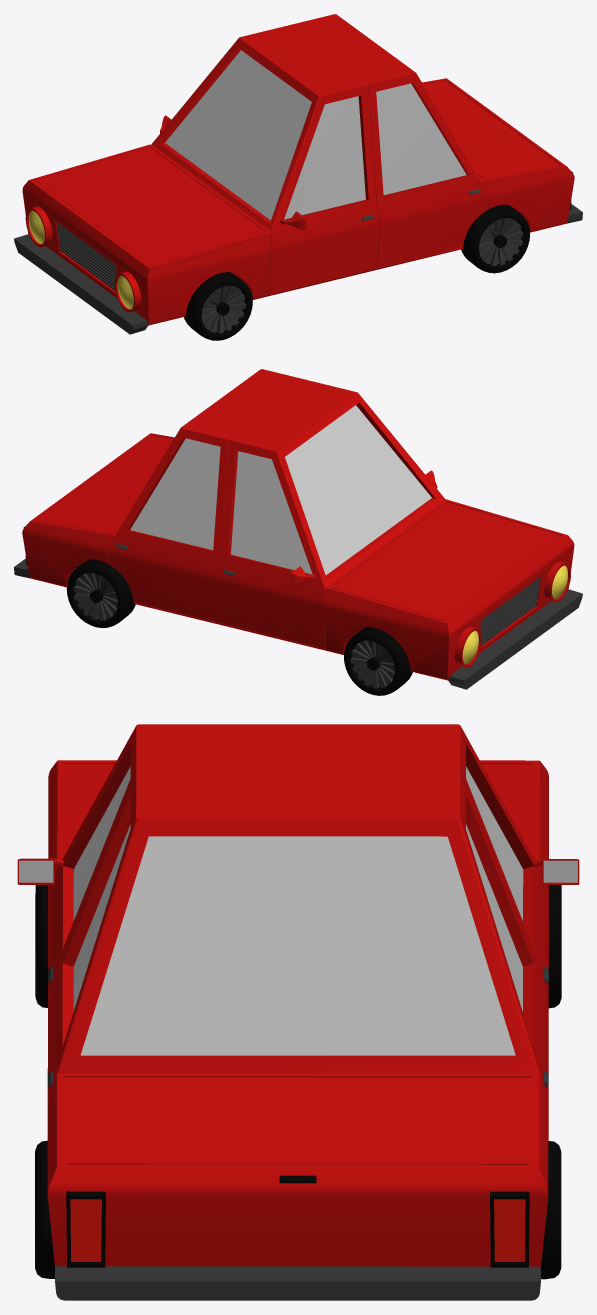
File: car.obj
3 views of the same model, one above another, from view 1: azimuth 30°, elevation 25°; view 2: azimuth 150°, elevation 25°; view 3: azimuth 270°, elevation 25° (orthographic). The views are drawn at different scales.
Visible parts, largest first — view 1: While-R-F_ﺔﻧﺍﻮﻄﺳﺃ.001; view 2: While-R-F_ﺔﻧﺍﻮﻄﺳﺃ.001; view 3: While-R-F_ﺔﻧﺍﻮﻄﺳﺃ.001.
Boxes of the visible parts, box(x1,y1,x2,y2) form: While-R-F_ﺔﻧﺍﻮﻄﺳﺃ.001: box(14, 14, 582, 340); While-R-F_ﺔﻧﺍﻮﻄﺳﺃ.001: box(14, 369, 582, 695); While-R-F_ﺔﻧﺍﻮﻄﺳﺃ.001: box(17, 724, 579, 1300).
Bounding box in the file's own units: 3.98 × 1.67 × 2.16.
